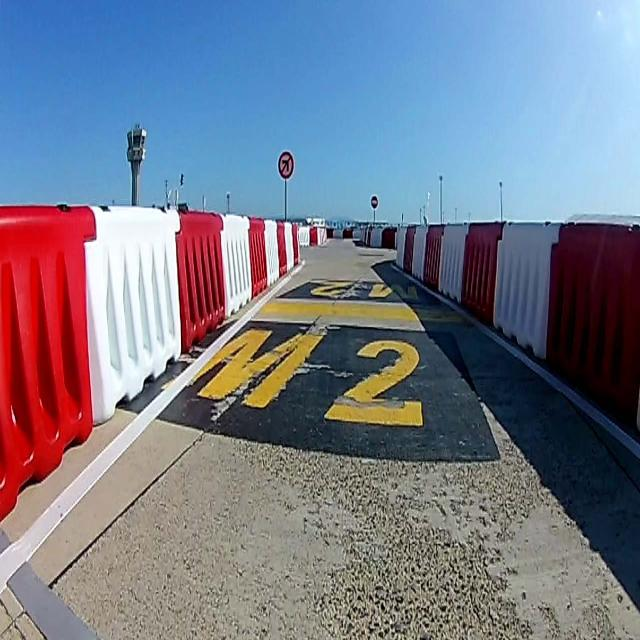soladonulmez: (278, 150, 296, 182)
